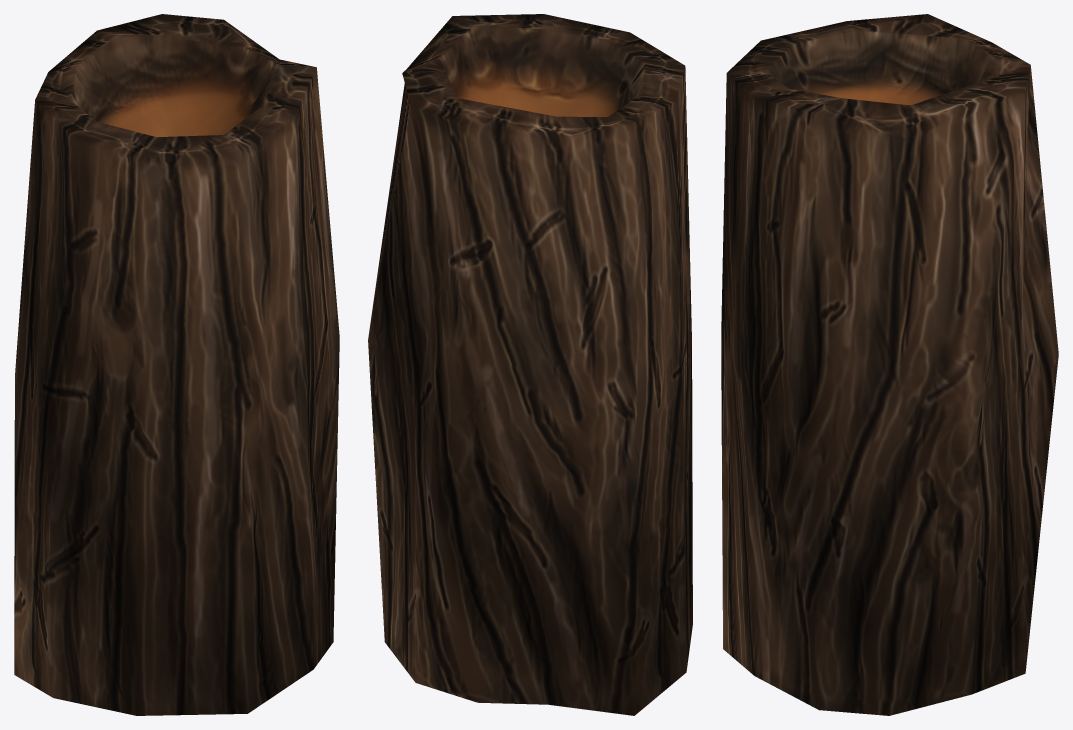
File: TreeTrunk.FBX
3 renders of one model, left to right at view 1: azimuth 30°, elevation 25°; view 2: azimuth 150°, elevation 25°; view 3: azimuth 270°, elevation 25°, orthographic.
Visible parts, largest first — view 1: default; view 2: default; view 3: default.
Boxes of the visible parts, x1=… form: default: x1=14, y1=14, x2=339, y2=715; default: x1=368, y1=14, x2=692, y2=715; default: x1=721, y1=14, x2=1058, y2=715.
Bounding box in the file's own units: 0.9464 × 1.96 × 0.9852.
